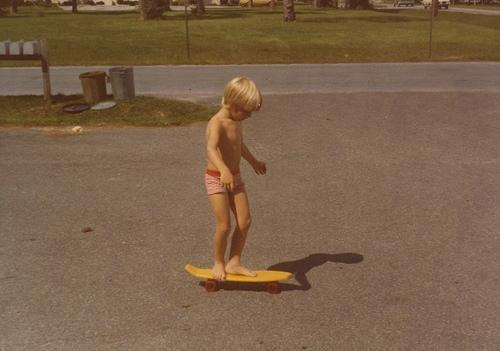car: (422, 0, 450, 9), (392, 0, 414, 7)
